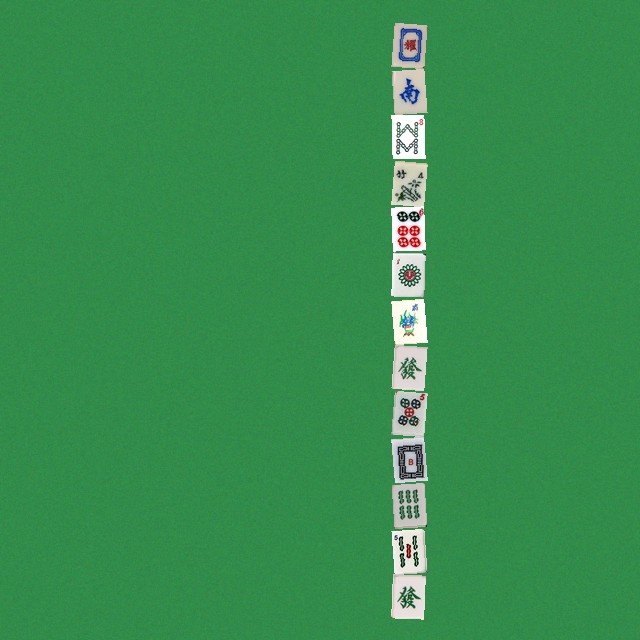tile: (391, 22, 424, 66), (391, 68, 424, 112), (391, 114, 424, 158), (391, 160, 424, 204), (391, 206, 424, 250), (391, 252, 424, 296), (391, 298, 424, 342), (391, 344, 424, 388), (391, 390, 424, 434), (391, 436, 424, 480), (391, 482, 424, 526), (391, 528, 424, 572), (391, 574, 424, 618)
